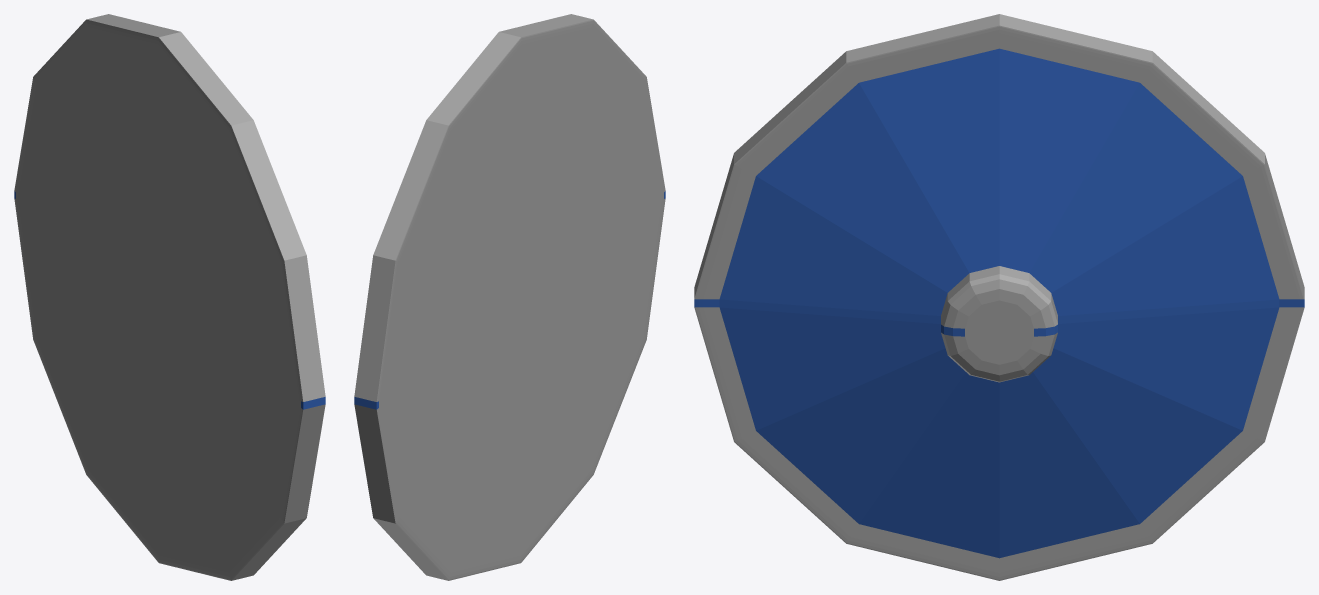
The model's file is Tier03Shield.fbx.
The picture shows the model from 3 angles, left to right: view 1: azimuth 30°, elevation 25°; view 2: azimuth 150°, elevation 25°; view 3: azimuth 270°, elevation 25°; orthographic projection. The views are drawn at different scales.
Visible parts, largest first — view 1: Tier02Shield..001; view 2: Tier02Shield..001; view 3: Tier02Shield..001.
Boxes of the visible parts, x1,y1,x2,y2 form: Tier02Shield..001: [14, 14, 325, 580]; Tier02Shield..001: [354, 14, 665, 580]; Tier02Shield..001: [694, 14, 1304, 580].
Size of the model in its own units: 31.74 by 200 by 199.
